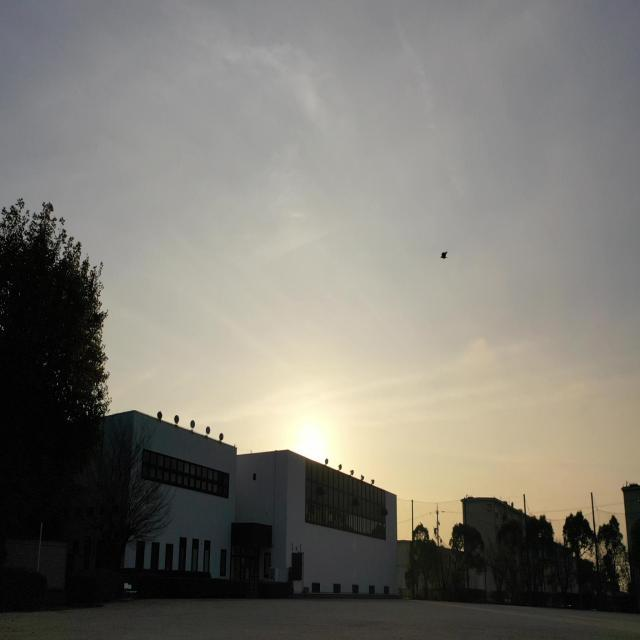Birds: (434, 244, 454, 266)
